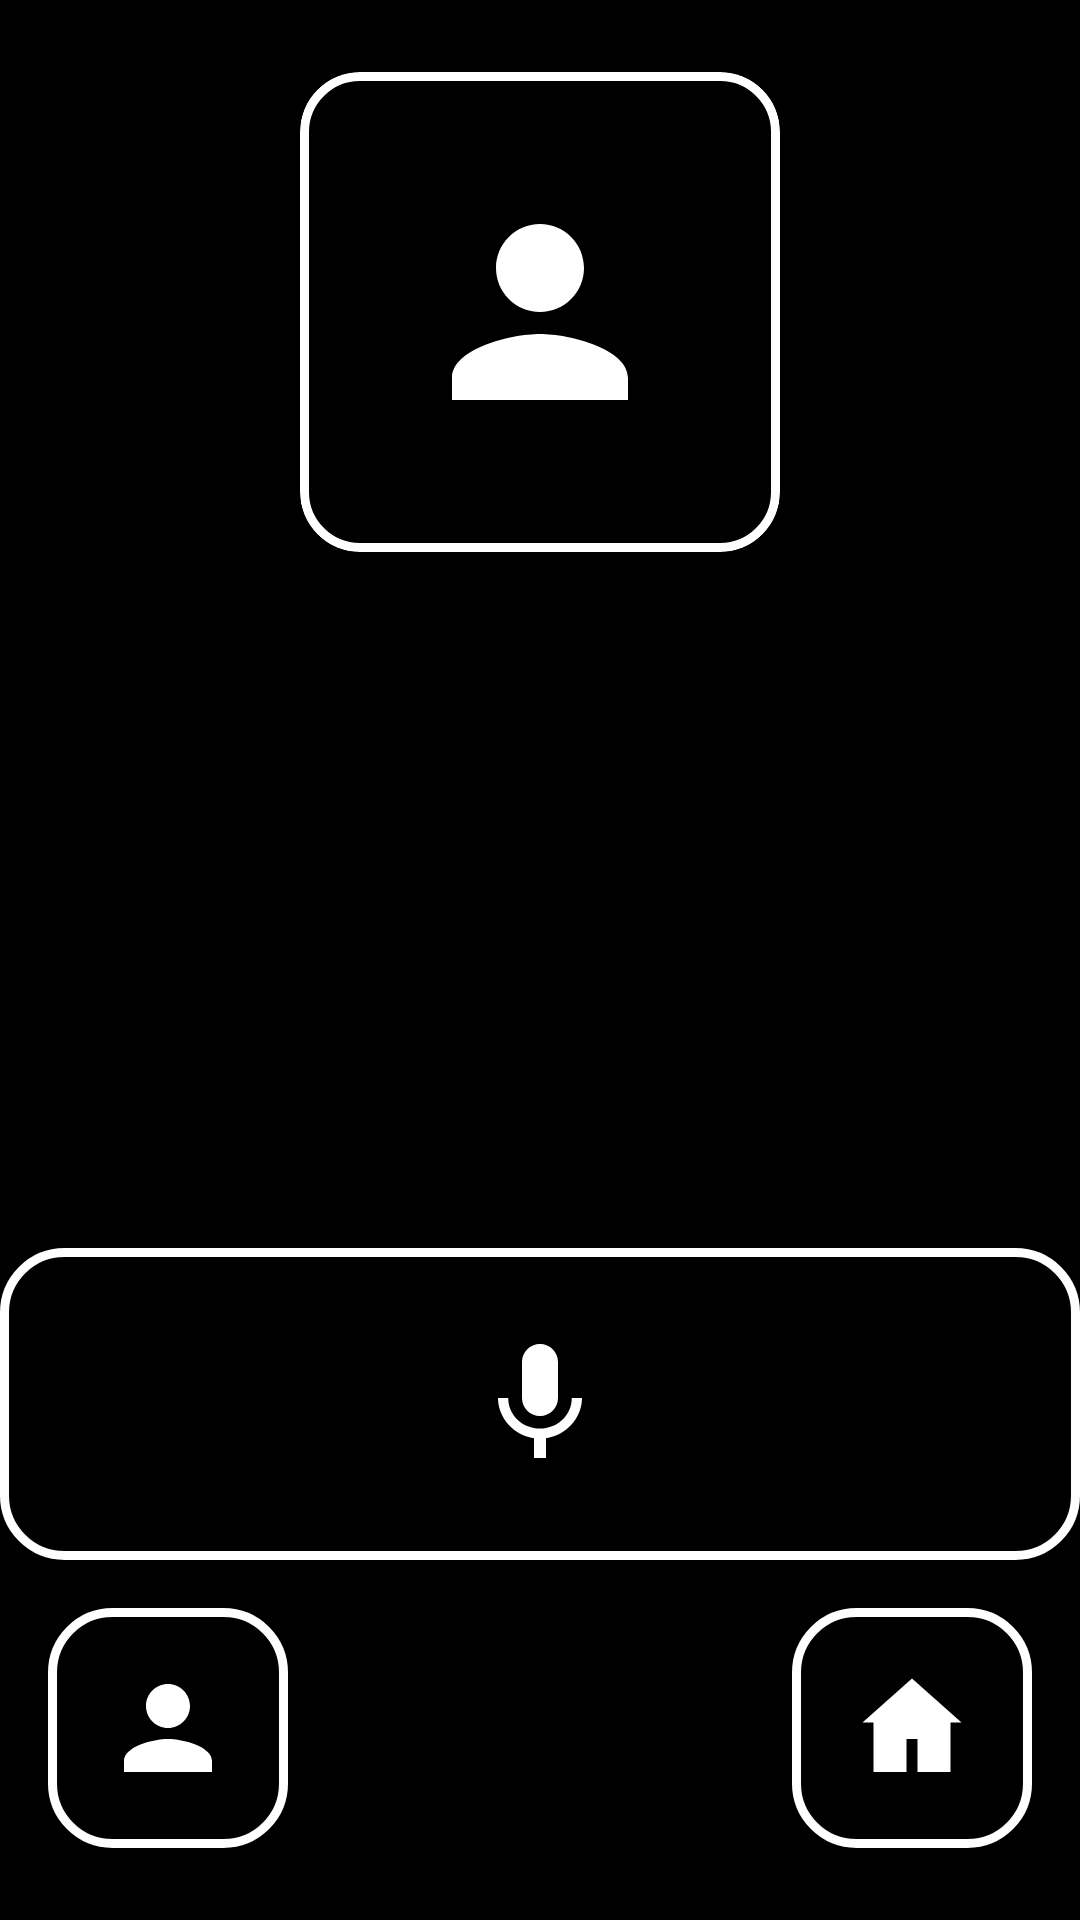

Icon bounding boxes for this 1080px x 1920px phone screenshot, format detection(x1, y1, x2, y2):
OK, go back home: detection(792, 1608, 1032, 1848)
